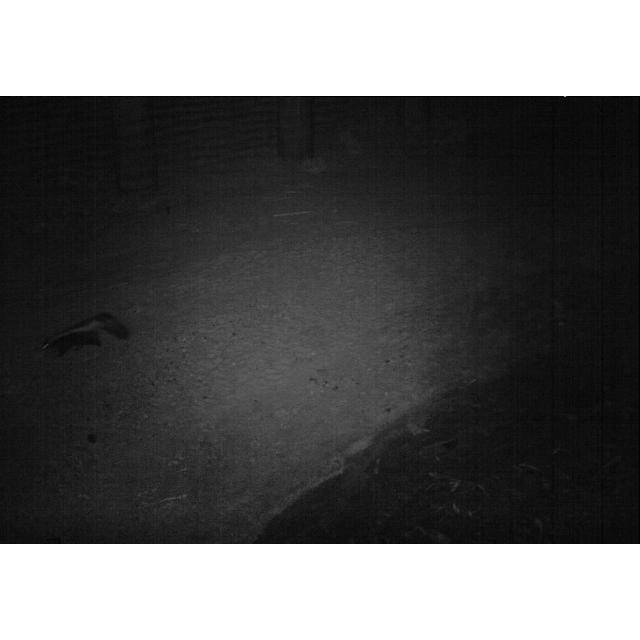animals: (51, 309, 138, 351)
